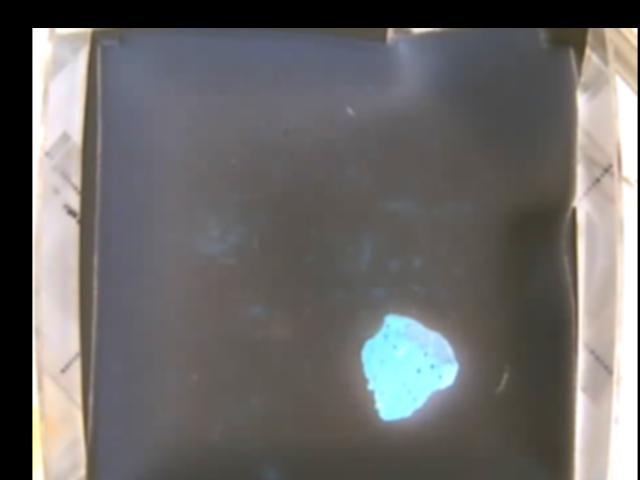Brisk: (365, 313, 456, 417)
